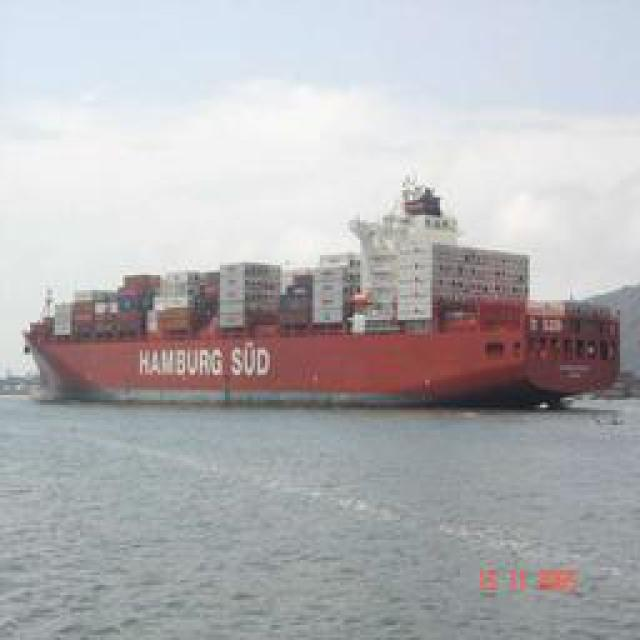Ship: (6, 243, 604, 411)
